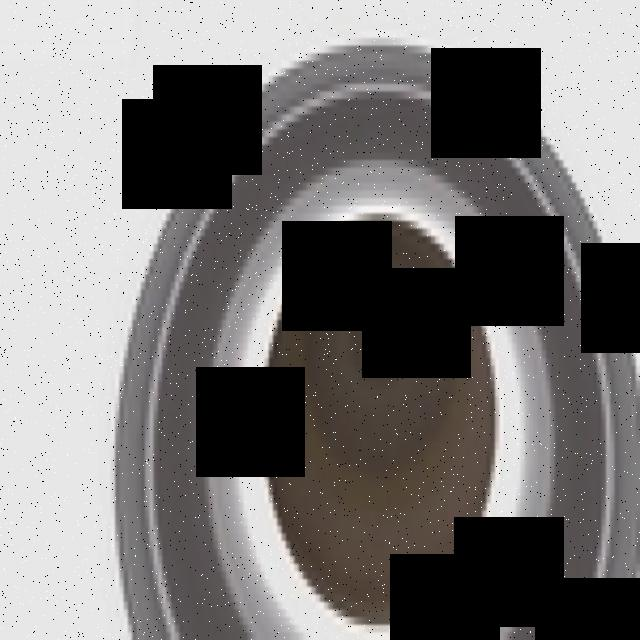Saturn: (111, 30, 640, 640)
